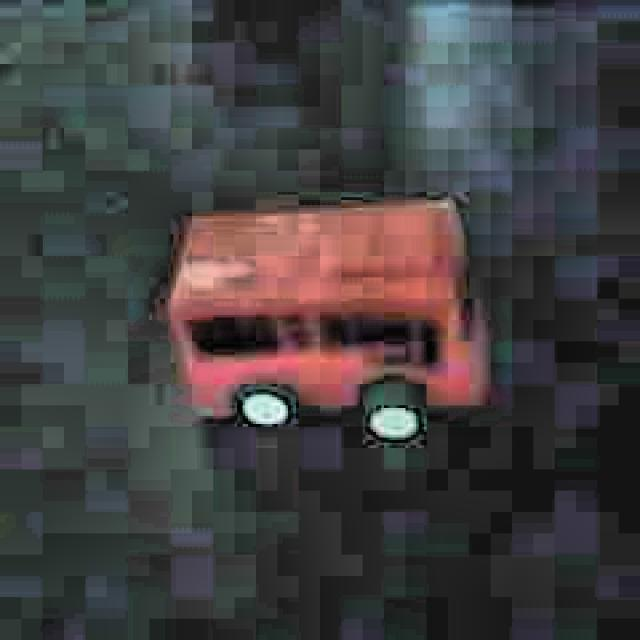bus: (153, 185, 499, 452)
